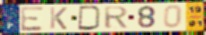0: (162, 4, 184, 30)
8: (137, 5, 157, 29)
D: (77, 5, 103, 32)
E: (20, 6, 45, 32)
K: (49, 6, 69, 30)
R: (103, 6, 130, 30)
